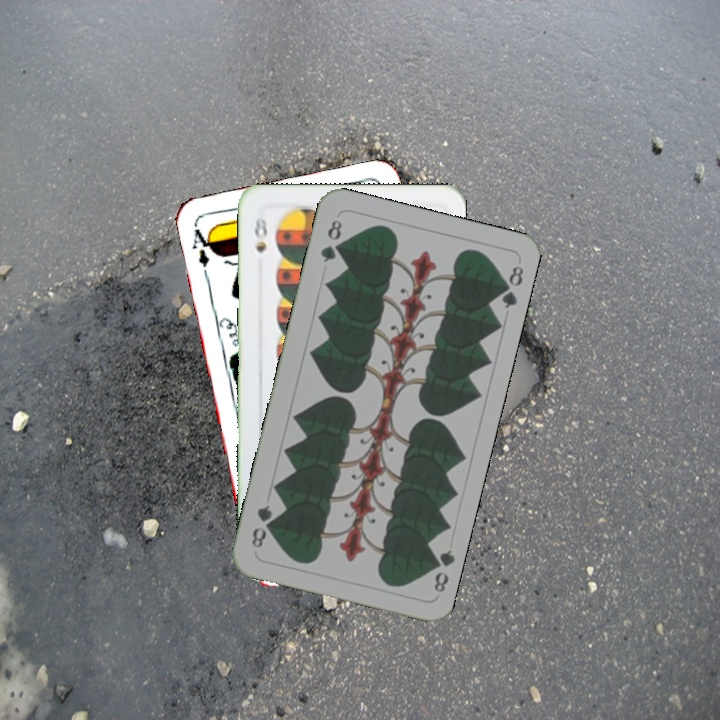EA: (188, 222, 217, 281)
G8: (425, 545, 457, 595), (316, 215, 345, 265)
S8: (251, 214, 271, 256)
